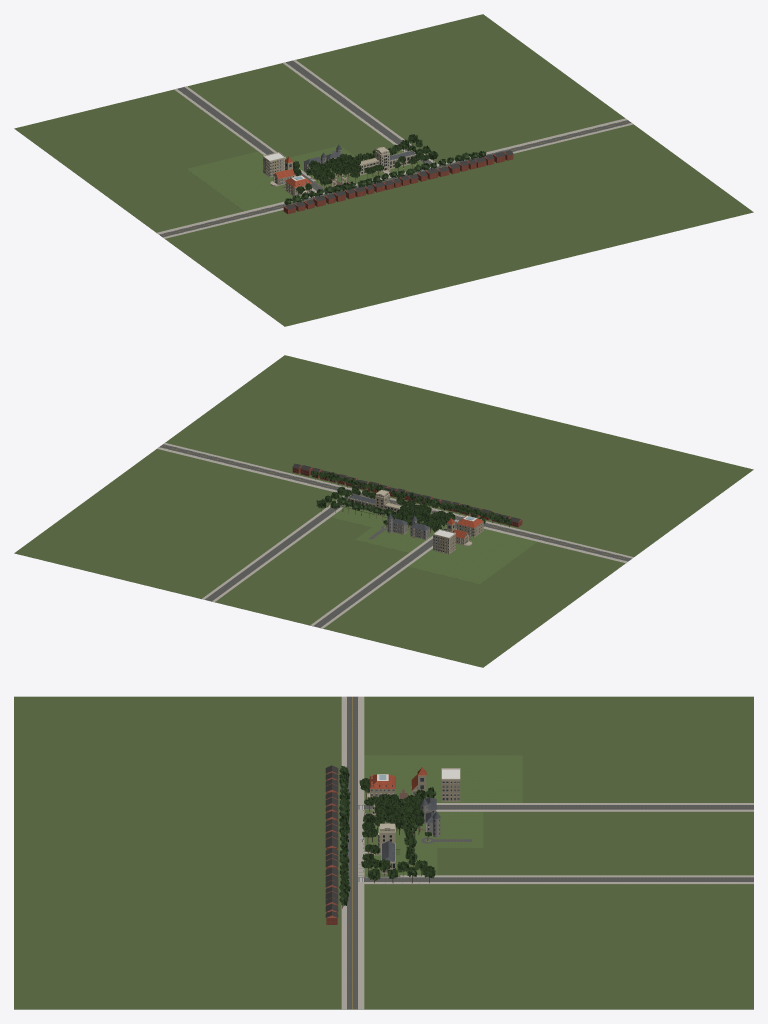
Rendered from us_campus.glb.
3 renders of one model, top to bottom at view 1: azimuth 30°, elevation 25°; view 2: azimuth 150°, elevation 25°; view 3: azimuth 270°, elevation 25°, orthographic. The views are drawn at different scales.
Visible parts, largest first — view 1: usu_ground_far, usu_grass, usu_asphalt, usu_sidewalk, usu_far_houses, usu_tree_cards_a, usu_tree_cards_c, usu_tree_cards_b, usu_far_roofs, usu_limestone, usu_tree_core, usl_limestone; view 2: usu_ground_far, usu_grass, usu_sidewalk, usu_asphalt, usu_tree_cards_a, usu_tree_cards_c, usu_tree_cards_b, usu_limestone, usu_far_houses, usu_far_roofs; view 3: usu_ground_far, usu_grass, usu_asphalt, usu_sidewalk, usu_tree_cards_a, usu_far_roofs, usu_tree_cards_c, usu_tree_cards_b, usu_limestone, usu_tree_core, usu_far_houses.
Boxes of the visible parts, <box> form: usu_ground_far: <box>14,14,753,326</box>; usu_grass: <box>187,145,423,211</box>; usu_asphalt: <box>159,60,631,237</box>; usu_sidewalk: <box>157,59,633,238</box>; usu_far_houses: <box>283,152,513,214</box>; usu_tree_cards_a: <box>293,134,453,201</box>; usu_tree_cards_c: <box>292,139,486,203</box>; usu_tree_cards_b: <box>284,148,478,205</box>; usu_far_roofs: <box>285,150,513,209</box>; usu_limestone: <box>263,157,311,195</box>; usu_tree_core: <box>287,137,484,204</box>; usl_limestone: <box>331,147,415,186</box>; usu_ground_far: <box>14,355,753,667</box>; usu_grass: <box>331,505,537,584</box>; usu_sidewalk: <box>157,443,633,628</box>; usu_asphalt: <box>159,444,631,627</box>; usu_tree_cards_a: <box>316,477,496,533</box>; usu_tree_cards_c: <box>310,470,505,531</box>; usu_tree_cards_b: <box>319,471,511,525</box>; usu_limestone: <box>433,516,483,553</box>; usu_far_houses: <box>292,465,522,527</box>; usu_far_roofs: <box>292,463,520,522</box>; usu_ground_far: <box>14,696,753,1009</box>; usu_grass: <box>364,755,522,876</box>; usu_asphalt: <box>347,696,753,1009</box>; usu_sidewalk: <box>341,696,753,1009</box>; usu_tree_cards_a: <box>340,774,435,880</box>; usu_far_roofs: <box>325,765,338,917</box>; usu_tree_cards_c: <box>340,769,427,906</box>; usu_tree_cards_b: <box>340,766,423,897</box>; usu_limestone: <box>370,775,460,800</box>; usu_tree_core: <box>339,769,436,902</box>; usu_far_houses: <box>326,771,337,924</box>.
Size of the model in its own units: 640 by 90.3 by 640.
75 materials, 40 textured.
